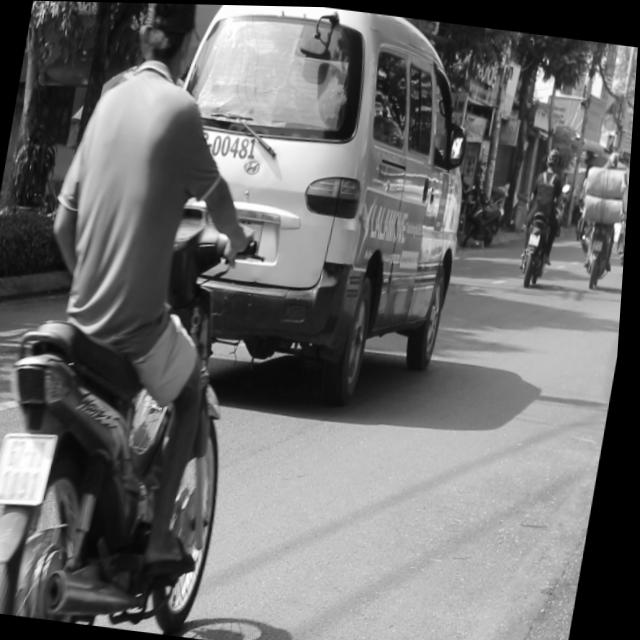licenseplate: (0, 0, 307, 638)
motorcyclist: (129, 2, 200, 80)
nohelmet: (0, 429, 63, 503)
